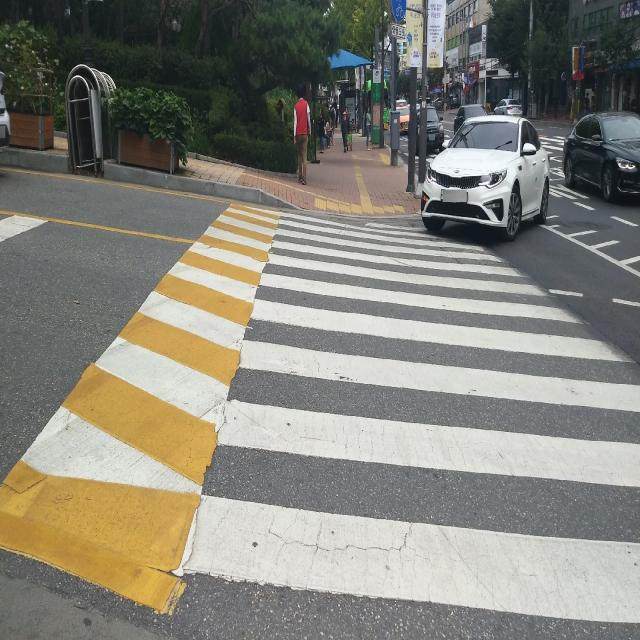횡단보도: (182, 209, 640, 630)
